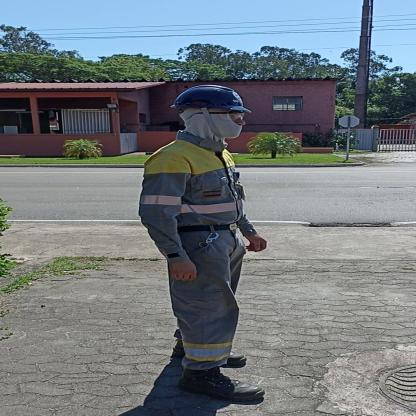Balaclava: (185, 110, 249, 144)
Capacete: (172, 84, 250, 110)
